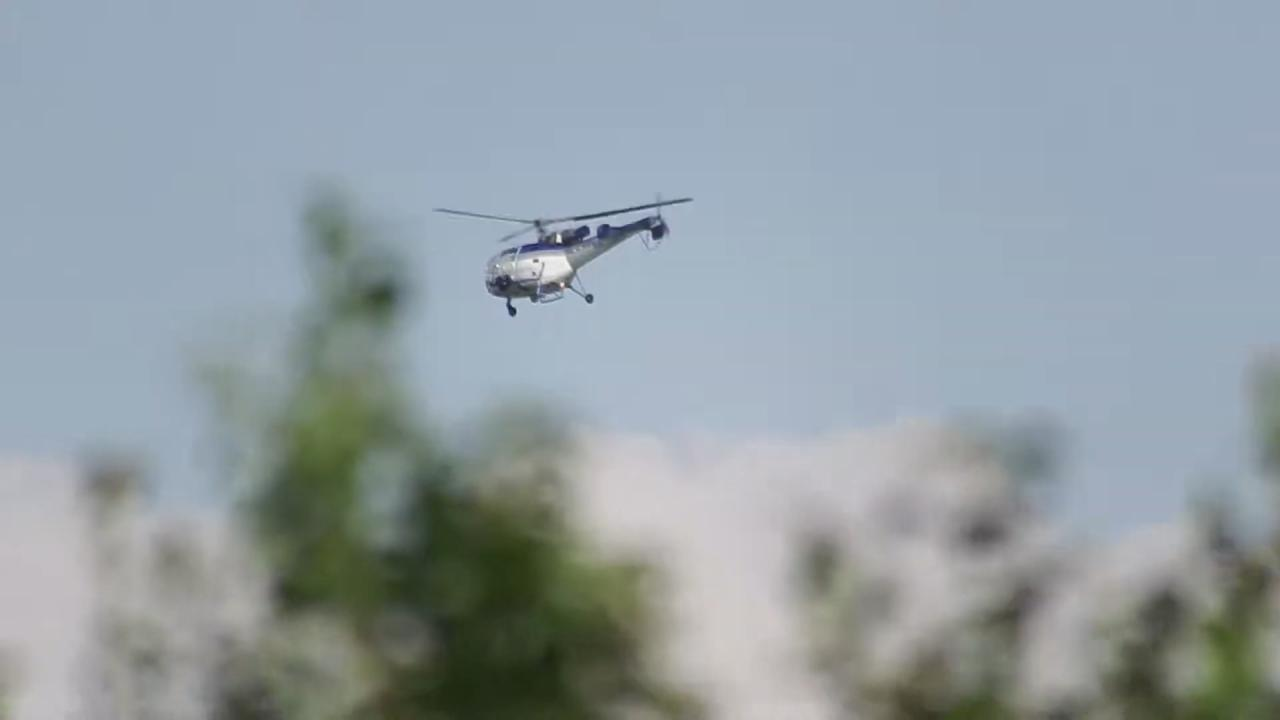Helicopter: (416, 185, 710, 322)
